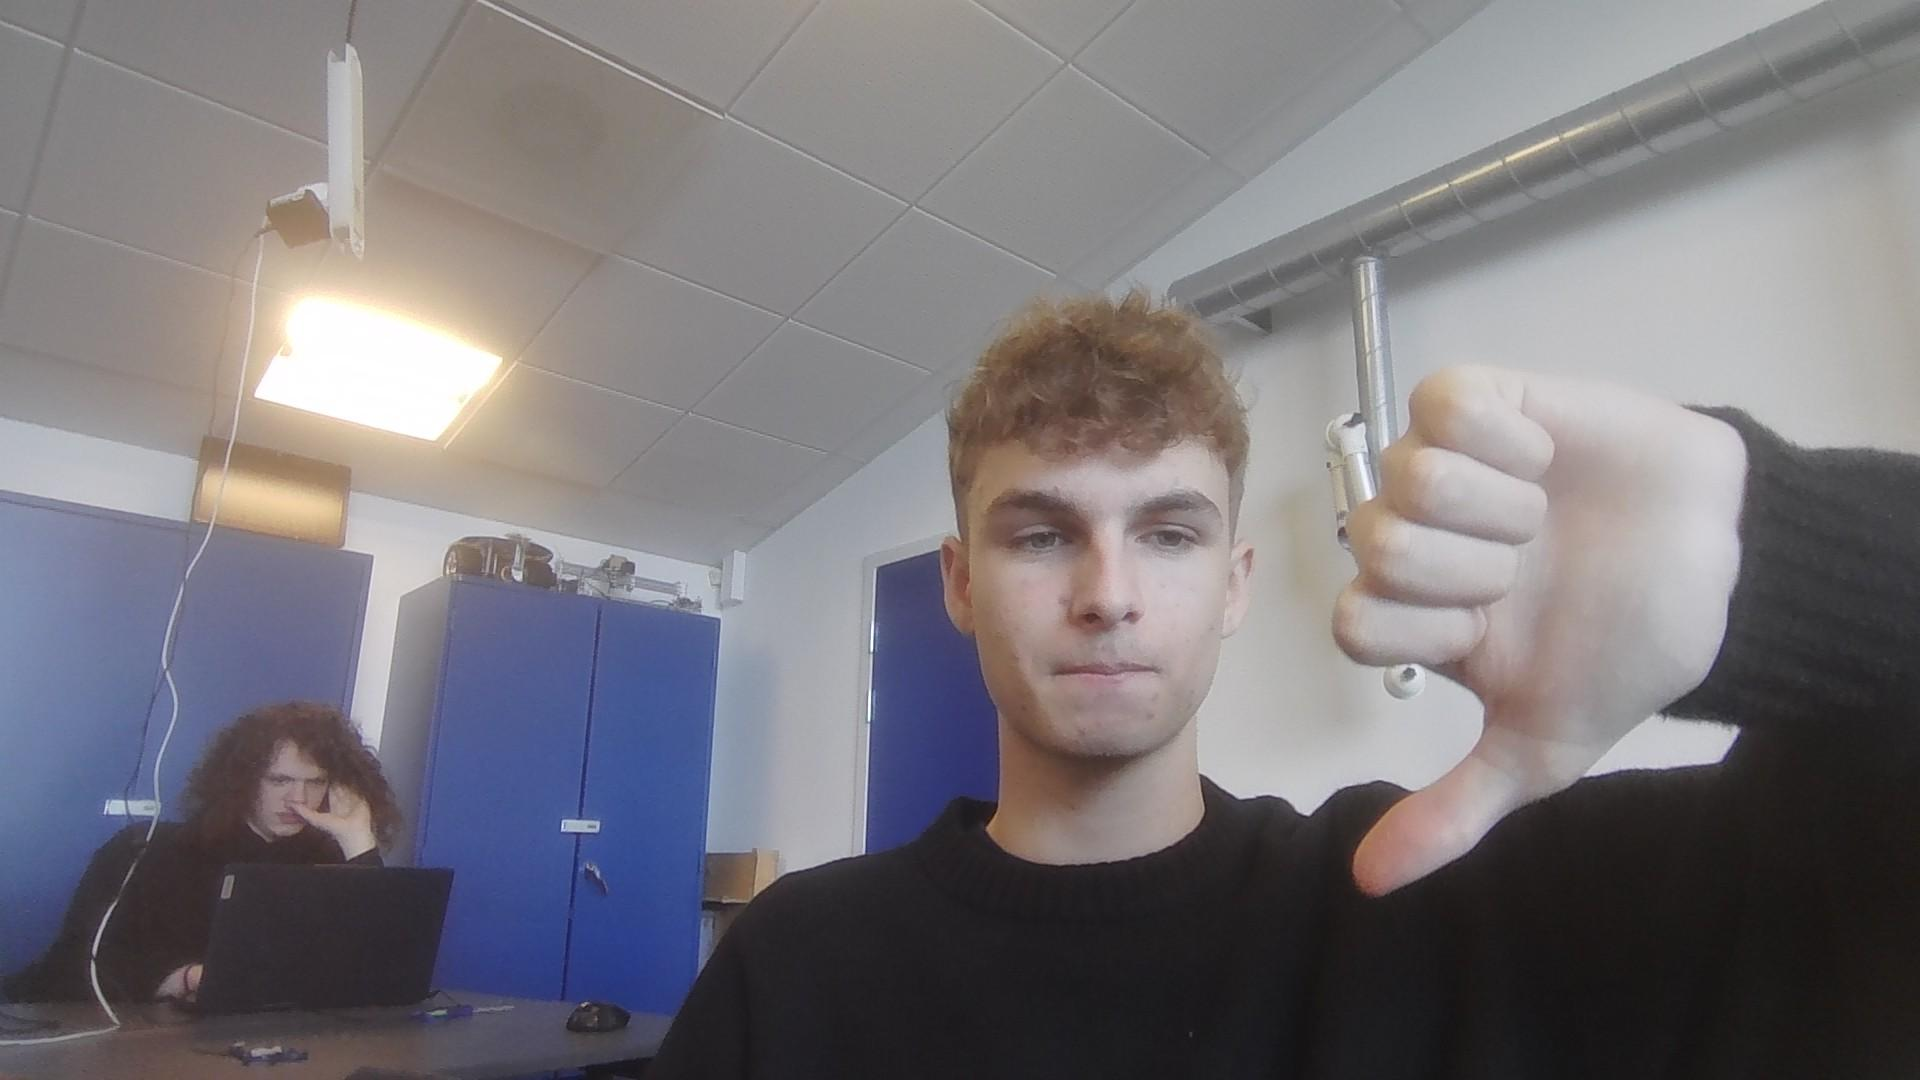thumbs down: (1321, 368, 1763, 936)
